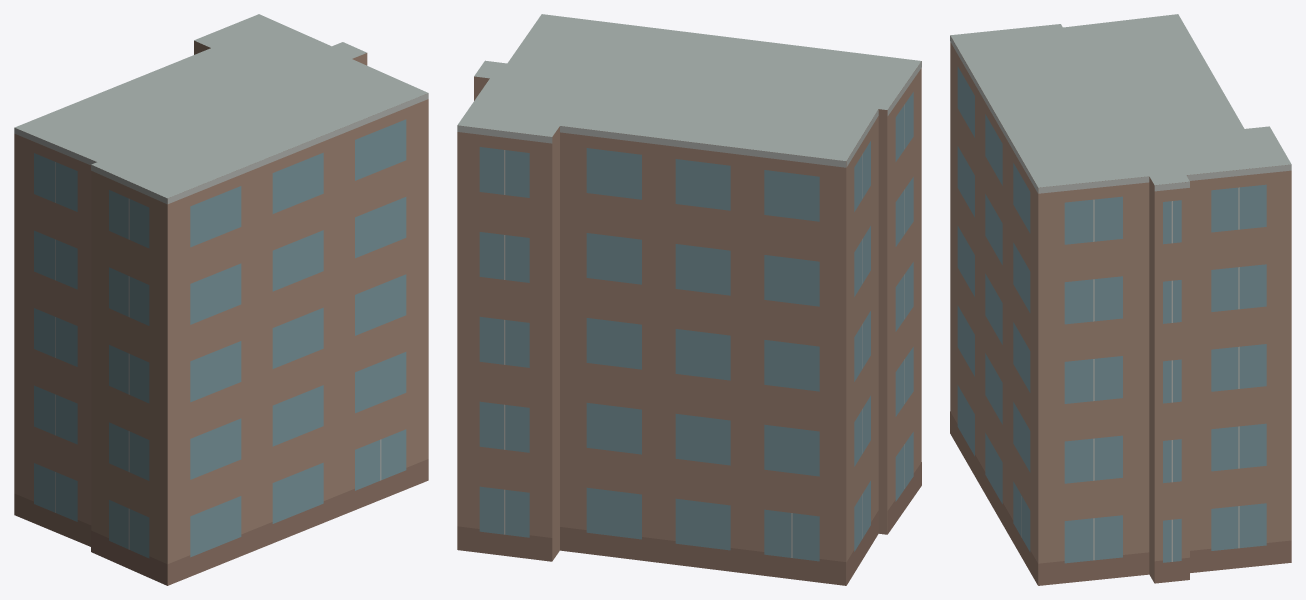
The model's file is survey-upis-32695274.glb.
3 renders of one model, left to right at view 1: azimuth 30°, elevation 25°; view 2: azimuth 150°, elevation 25°; view 3: azimuth 270°, elevation 25°, orthographic. The views are drawn at different scales.
Parts seen in each view (by area): view 1: survey-upis-32695274.tmp; view 2: survey-upis-32695274.tmp; view 3: survey-upis-32695274.tmp.
Part boxes in pixels (<box>): survey-upis-32695274.tmp: <box>14,14,428,585</box>; survey-upis-32695274.tmp: <box>457,14,921,585</box>; survey-upis-32695274.tmp: <box>950,14,1291,585</box>.
Size of the model in its own units: 14.78 by 15.8 by 12.29.
